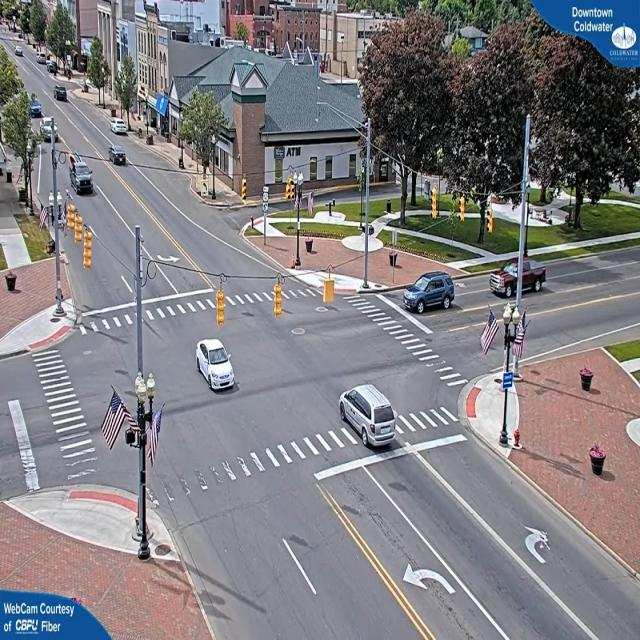car: (339, 383, 399, 448), (489, 253, 546, 297), (404, 270, 456, 313), (196, 340, 238, 392), (111, 149, 129, 167), (112, 120, 129, 137), (54, 85, 68, 102)
truck: (69, 154, 93, 196)
